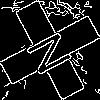N: (25, 25, 82, 78)
